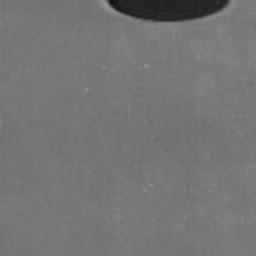Punching: (106, 0, 229, 22)
